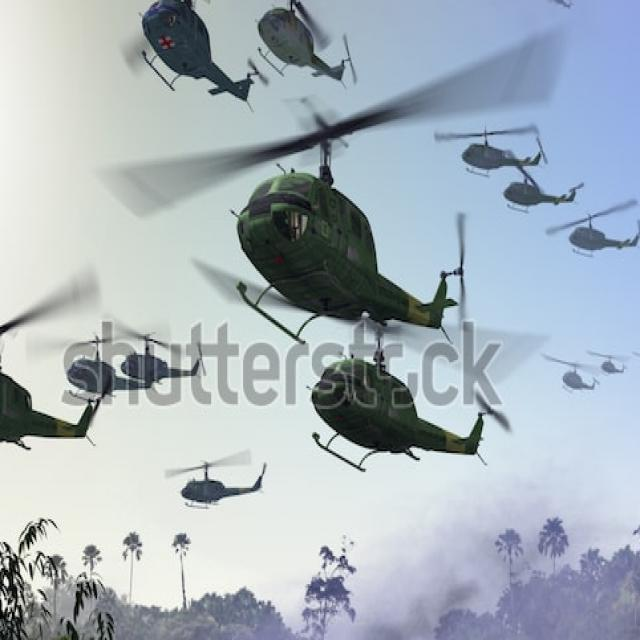helicopter: (157, 89, 497, 376), (321, 337, 504, 482), (130, 1, 257, 132), (1, 292, 99, 457), (273, 1, 370, 104), (445, 104, 551, 183), (161, 459, 283, 524), (544, 192, 640, 260), (125, 330, 198, 394), (70, 335, 121, 421), (511, 164, 586, 211), (547, 346, 607, 402), (595, 328, 628, 375), (544, 1, 580, 15), (627, 345, 640, 369)
